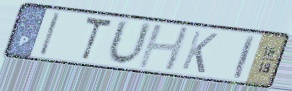H: (135, 23, 192, 72)
I: (231, 33, 257, 81), (37, 10, 63, 58)
K: (179, 29, 220, 76)
T: (81, 15, 115, 63)
U: (105, 17, 155, 68)
